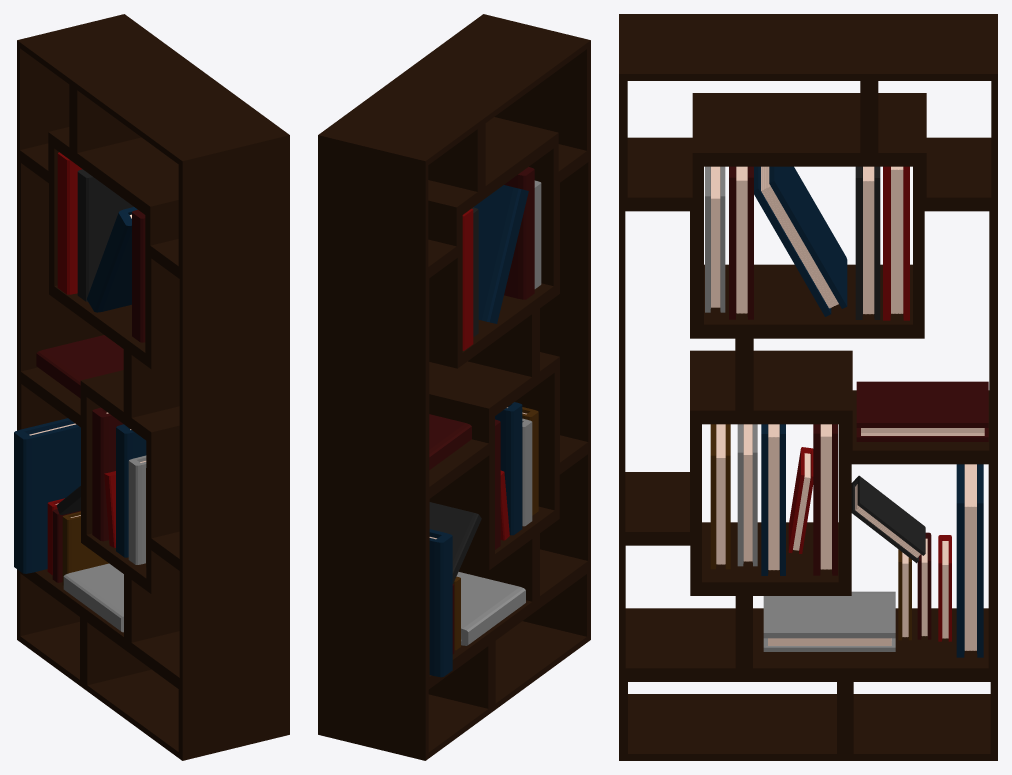
The model's file is Isometric room sketchfab.dae.
3 views of the same model, side by side, from view 1: azimuth 30°, elevation 25°; view 2: azimuth 150°, elevation 25°; view 3: azimuth 270°, elevation 25° (orthographic). The views are drawn at different scales.
Parts seen in each view (by area): view 1: Bookshelf, Book.006, Book.002, Book.012, Book.003, Book.001, Book.011, Book.016, Book.013, Book.015, Book.005, Book.009 (+3 smaller); view 2: Bookshelf, Book.003, Book.006, Book.011, Book.013, Book.005, Book.010, Book.001, Book.012, Book.015, Book.014, Book.004 (+4 smaller); view 3: Bookshelf, Book.012, Book.011, Book.003, Book.006, Book.001, Book.002, Book.005, Book.013, Book.016, Book.010, Book.004 (+6 smaller).
Boxes of the visible parts, x1,y1,x2,y2 form: Bookshelf: (17,14,289,760); Book.006: (14,418,80,573); Book.002: (77,169,133,301); Book.012: (36,335,123,398); Book.003: (87,207,137,312); Book.001: (57,152,82,294); Book.011: (63,563,123,632); Book.016: (92,407,123,541); Book.013: (116,424,146,557); Book.015: (128,455,146,564); Book.005: (132,209,145,342); Book.009: (62,511,108,585); Bookshelf: (318,14,590,760); Book.003: (473,185,528,323); Book.006: (429,529,452,677); Book.011: (456,572,525,645); Book.013: (495,402,522,535); Book.005: (504,167,534,299); Book.010: (429,502,481,583); Book.001: (462,208,473,350); Book.012: (429,414,471,469); Book.015: (522,418,532,526); Book.014: (522,407,538,515); Book.004: (534,180,541,288); Bookshelf: (619,14,997,760); Book.012: (856,381,988,441); Book.011: (763,591,895,651); Book.003: (754,166,847,316); Book.006: (956,464,983,657); Book.001: (883,166,909,320); Book.002: (855,166,880,319); Book.005: (729,166,753,319); Book.013: (761,424,785,575); Book.016: (813,424,837,575); Book.010: (851,475,925,563); Book.004: (705,166,725,312).
Size of the model in its own units: 0.1886 by 0.4578 by 0.9156.
